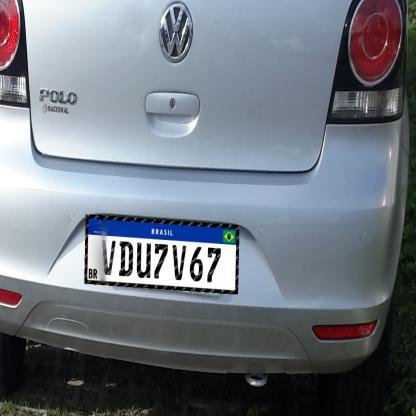PlacaM: (84, 214, 240, 294)
